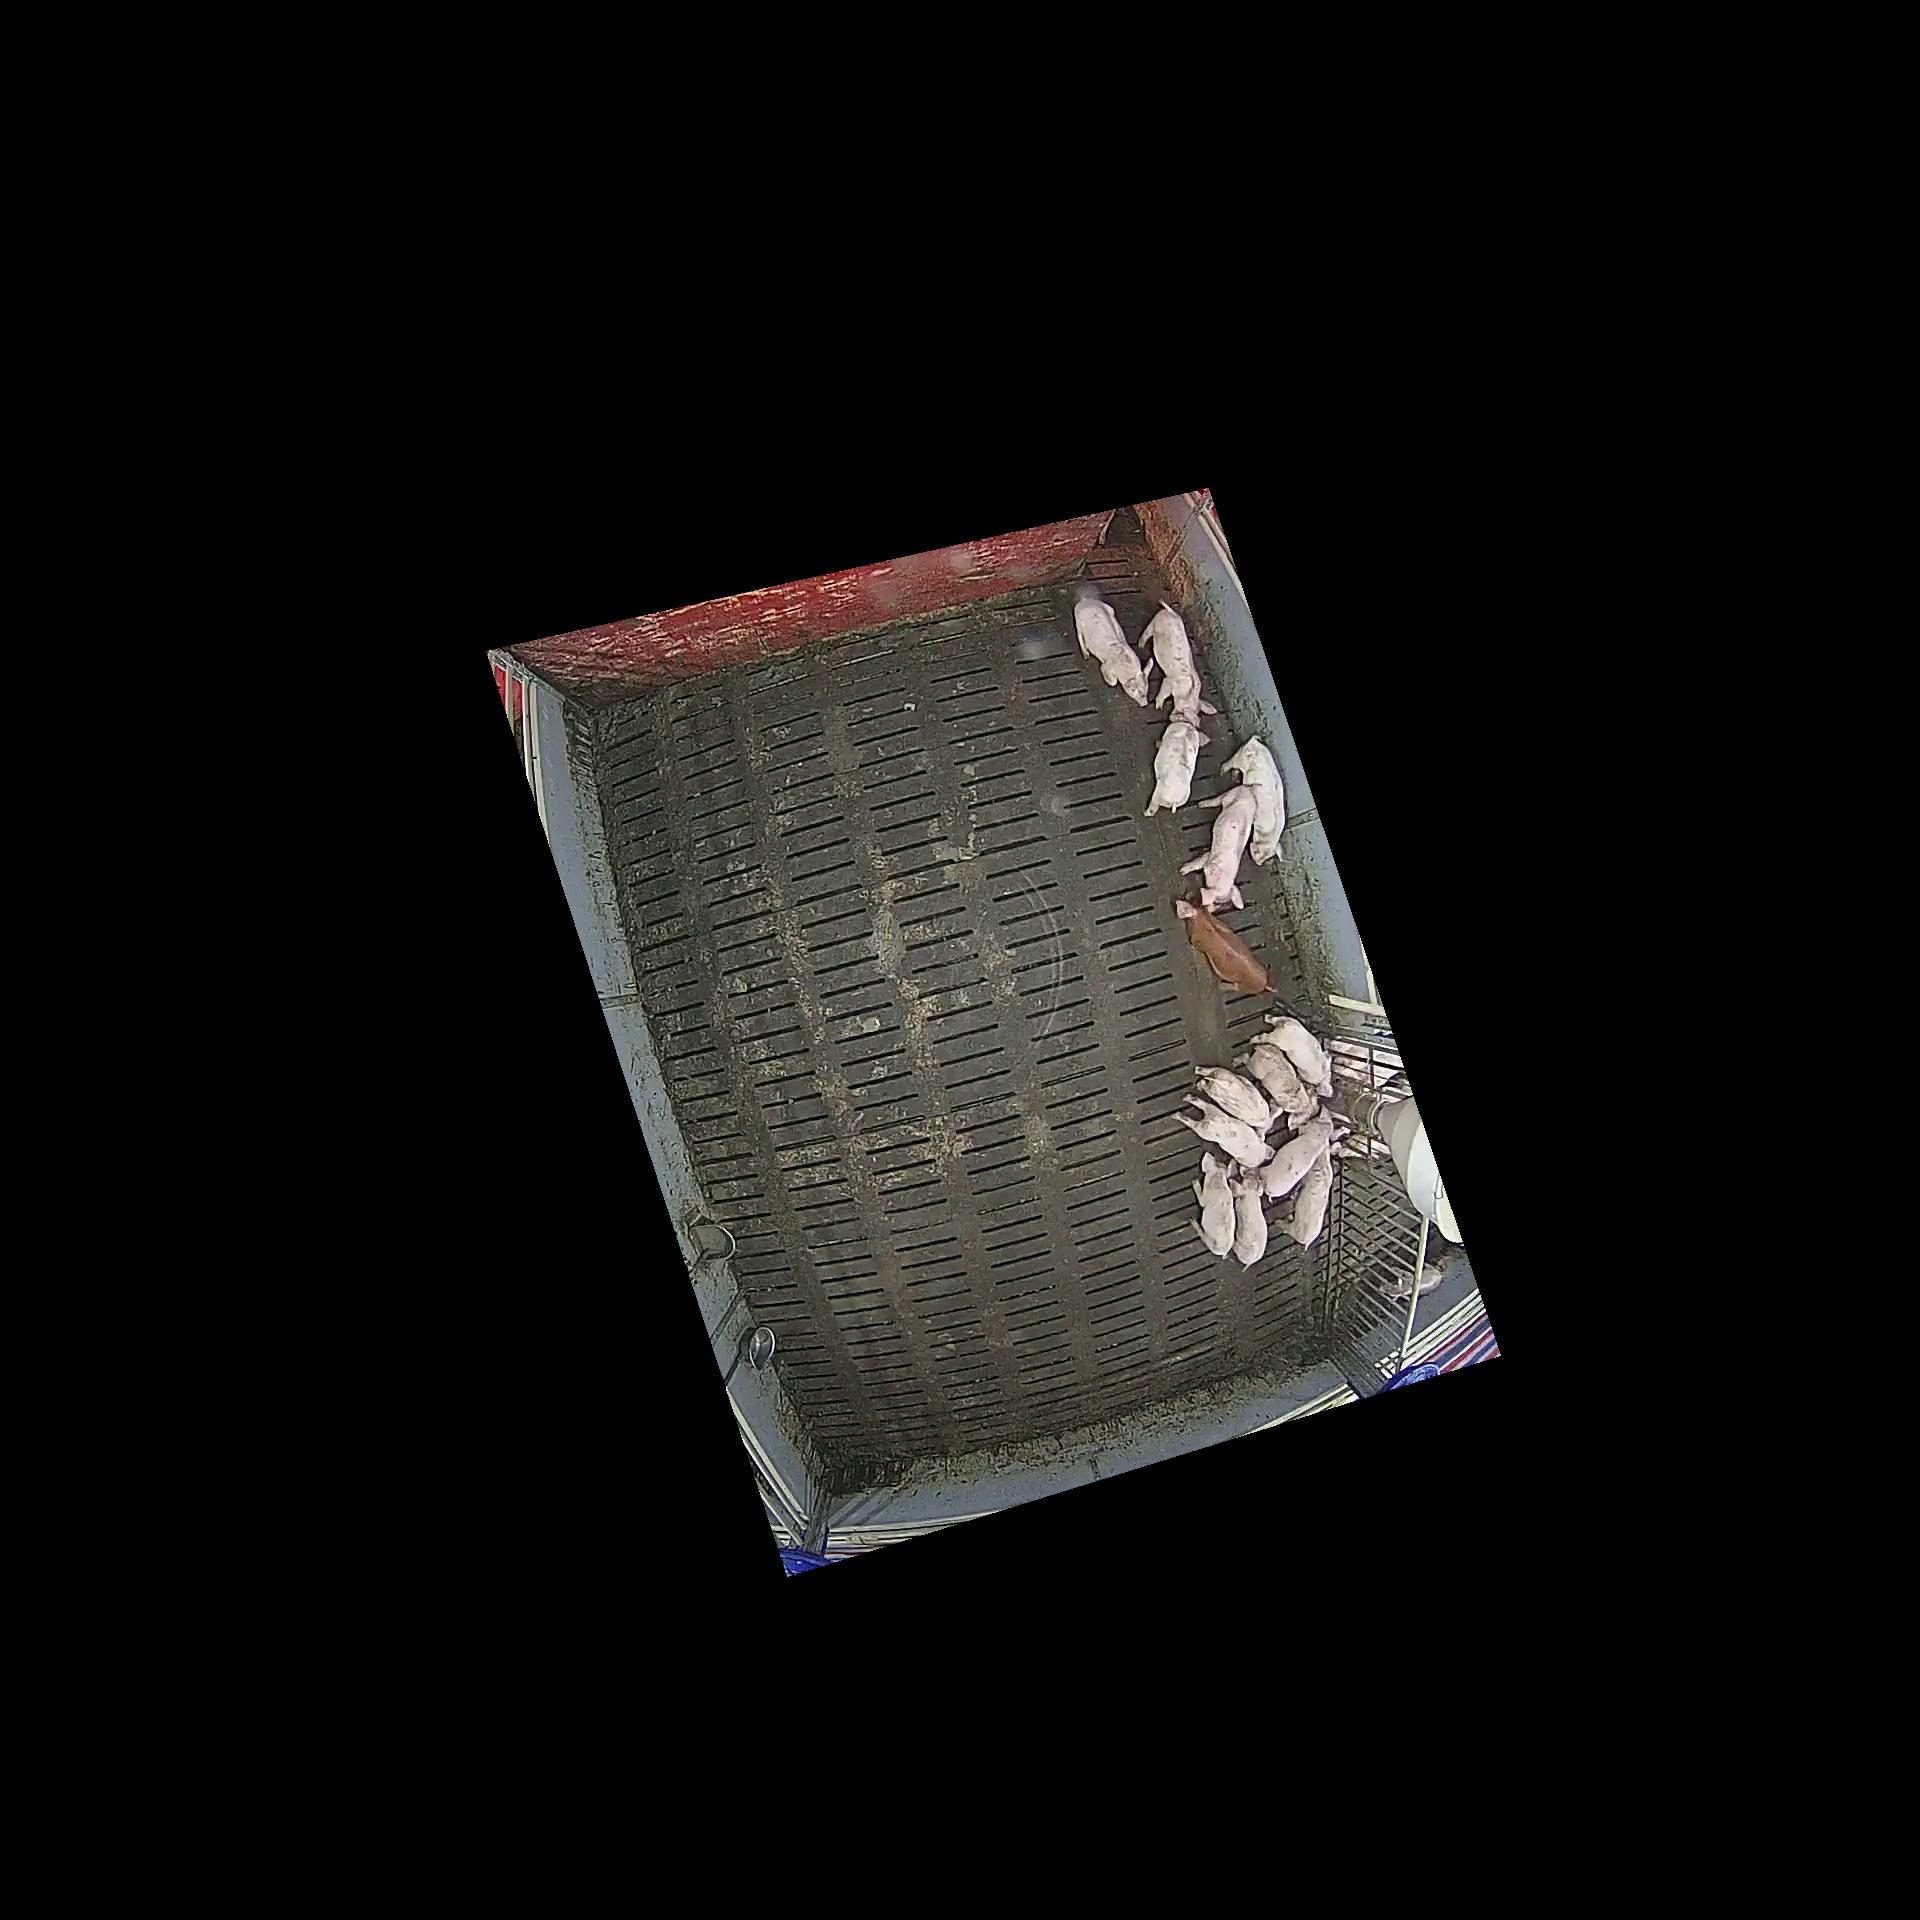pig: (1238, 1108, 1352, 1204), (1138, 598, 1217, 730), (1176, 898, 1284, 995), (1182, 786, 1257, 911), (1074, 594, 1153, 707), (1218, 735, 1285, 865), (1167, 1094, 1276, 1169), (1233, 1044, 1320, 1131), (1275, 1143, 1343, 1252), (1248, 1013, 1333, 1099), (1145, 714, 1211, 818), (1194, 1065, 1282, 1139), (1189, 1150, 1240, 1261), (1227, 1178, 1269, 1275), (1378, 1262, 1445, 1299)
